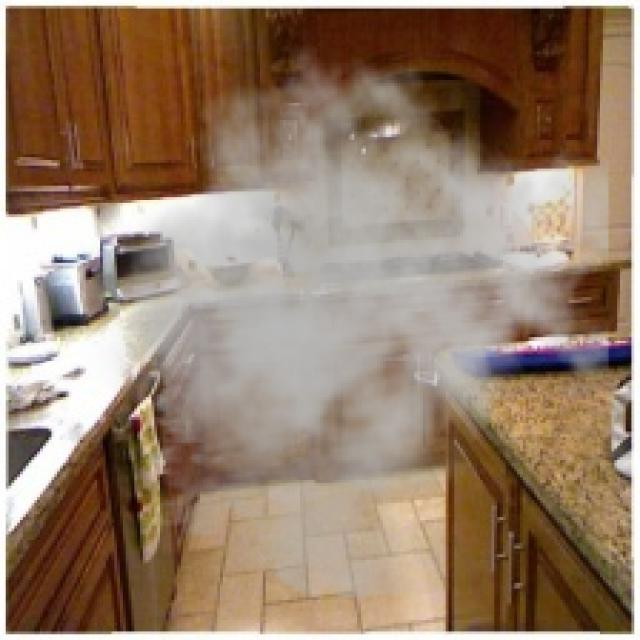smoke: (77, 43, 609, 600)
